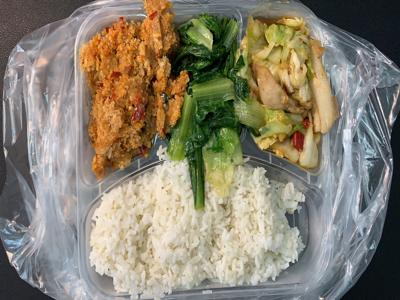j2: (80, 1, 184, 165)
rice: (84, 161, 328, 288)
ymc: (171, 2, 247, 173)
